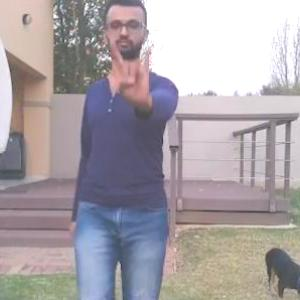takeoff-hand: (112, 41, 161, 105)
